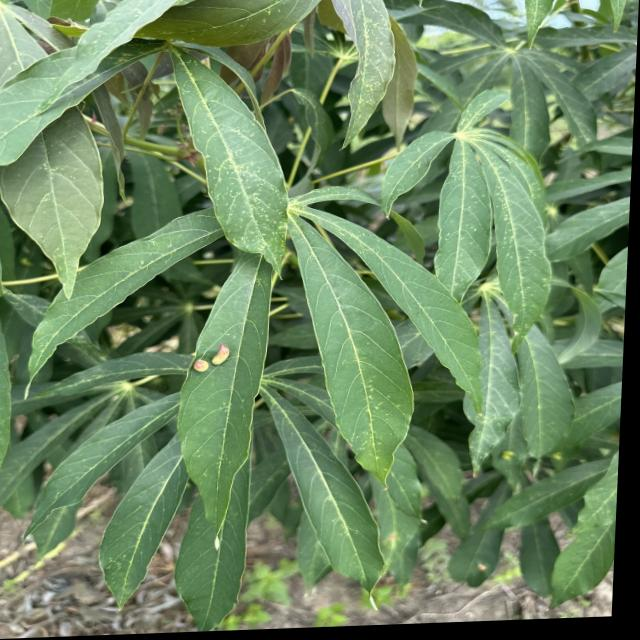Mosca: (180, 328, 243, 380), (206, 521, 239, 561), (493, 441, 519, 470), (467, 554, 497, 578)
